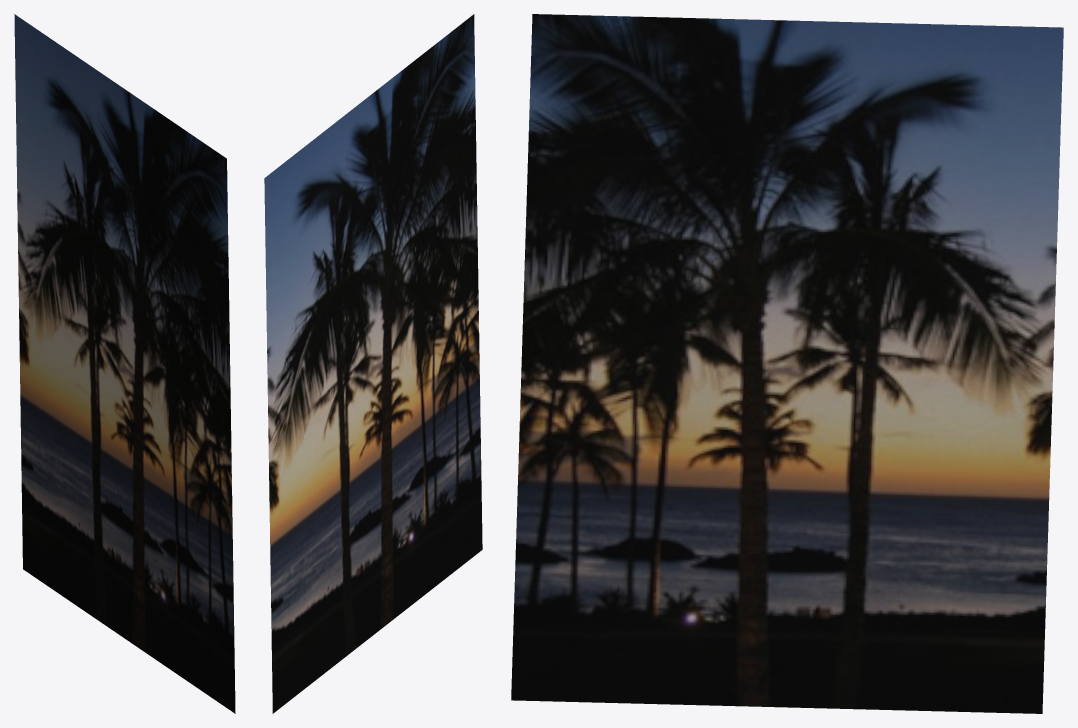
Rendered from mcp_wall_poster_01.FBX.
The picture shows the model from 3 angles, left to right: view 1: azimuth 30°, elevation 25°; view 2: azimuth 150°, elevation 25°; view 3: azimuth 270°, elevation 25°; orthographic projection. The views are drawn at different scales.
Visible parts, largest first — view 1: mcp_wall_poster_01; view 2: mcp_wall_poster_01; view 3: mcp_wall_poster_01.
Boxes of the visible parts, x1,y1,x2,y2 form: mcp_wall_poster_01: (14, 14, 235, 713); mcp_wall_poster_01: (264, 14, 482, 713); mcp_wall_poster_01: (511, 14, 1063, 713).
Bounding box in the file's own units: 1.91e-05 × 77.21 × 108.
